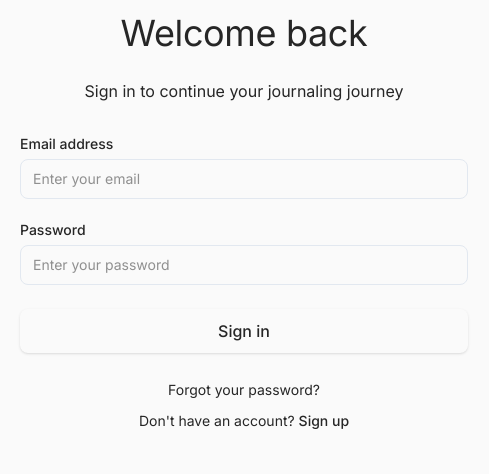
Test case: AuthForm › Error Handling › displays password-specific errors on password field
Type "test@example.com" into the field labelled "Email address" at (244,179), box [20, 159, 468, 199]
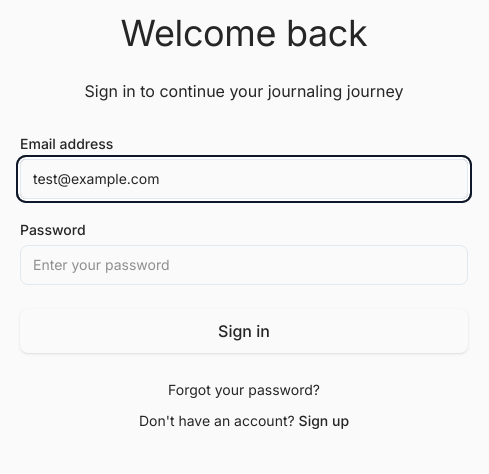
Type "123" into the password field labelled "Password" at (244,265), box [20, 245, 468, 285]
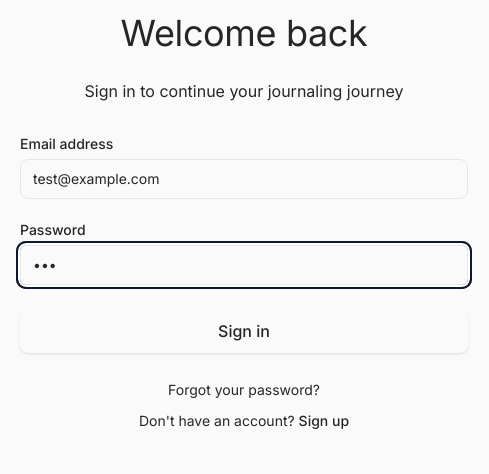
Click the button "Sign in" at (244,331), box [20, 309, 468, 353]
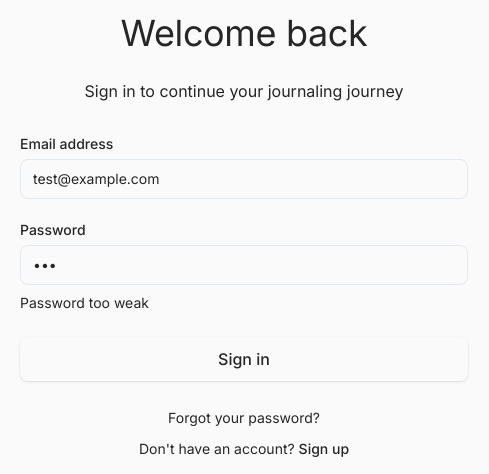
Now the text "Password too weak" is shown, box [20, 294, 149, 311]
